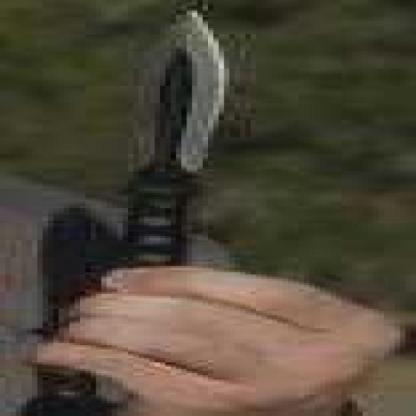Knife: (105, 0, 237, 294)
